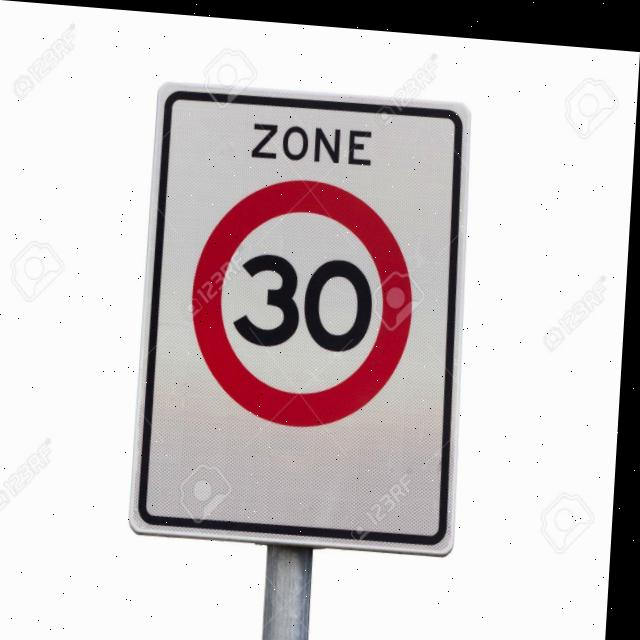Speed limit 30: (189, 167, 424, 431)
